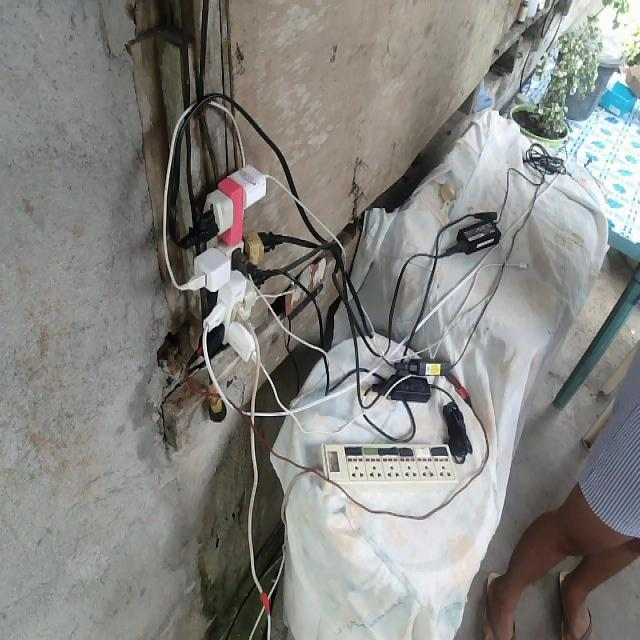-: (178, 160, 270, 365)
